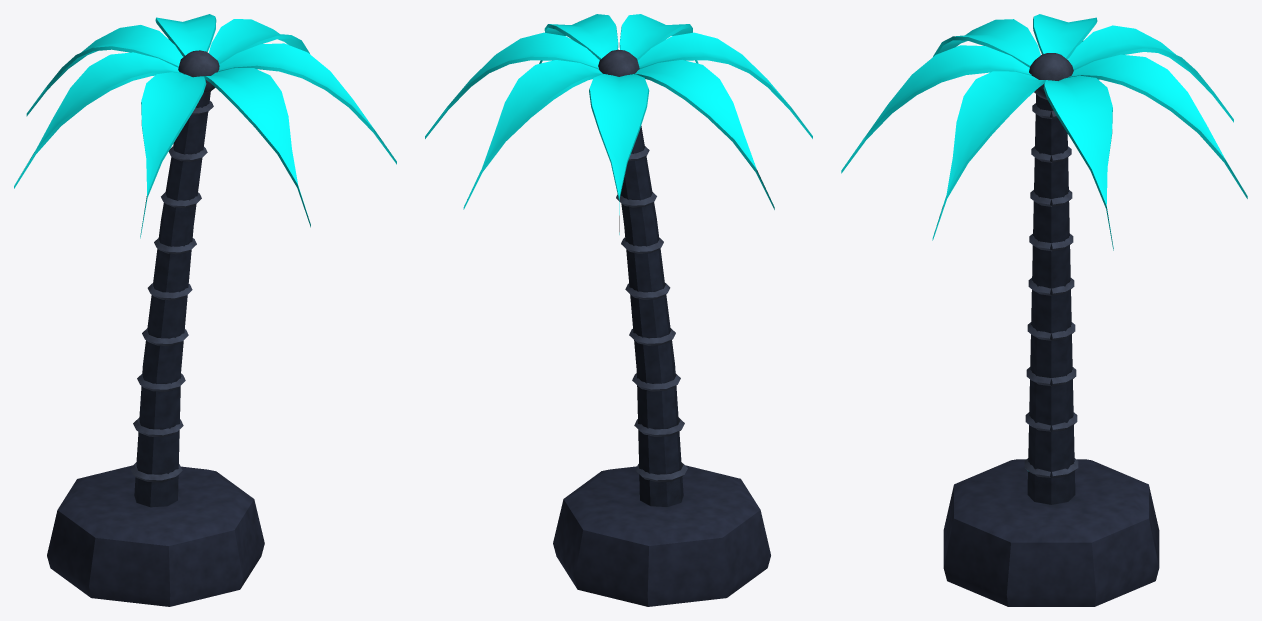
Rendered from holo_palm.fbx.
The picture shows the model from 3 angles, left to right: view 1: azimuth 30°, elevation 25°; view 2: azimuth 150°, elevation 25°; view 3: azimuth 270°, elevation 25°; orthographic projection. The views are drawn at different scales.
Visible parts, largest first — view 1: holo_palm, holo_palm_glow; view 2: holo_palm, holo_palm_glow; view 3: holo_palm, holo_palm_glow.
Boxes of the visible parts, x1,y1,x2,y2 form: holo_palm: (47,50,264,606); holo_palm_glow: (14,14,396,238); holo_palm: (553,49,770,606); holo_palm_glow: (425,14,812,234); holo_palm: (943,53,1159,606); holo_palm_glow: (841,14,1247,250).
Bounding box in the file's own units: 544 × 777 × 540.
Materials: 1 (1 with a texture image).
